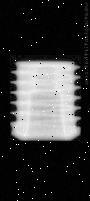AGS Medikal: (10, 55, 81, 141)
